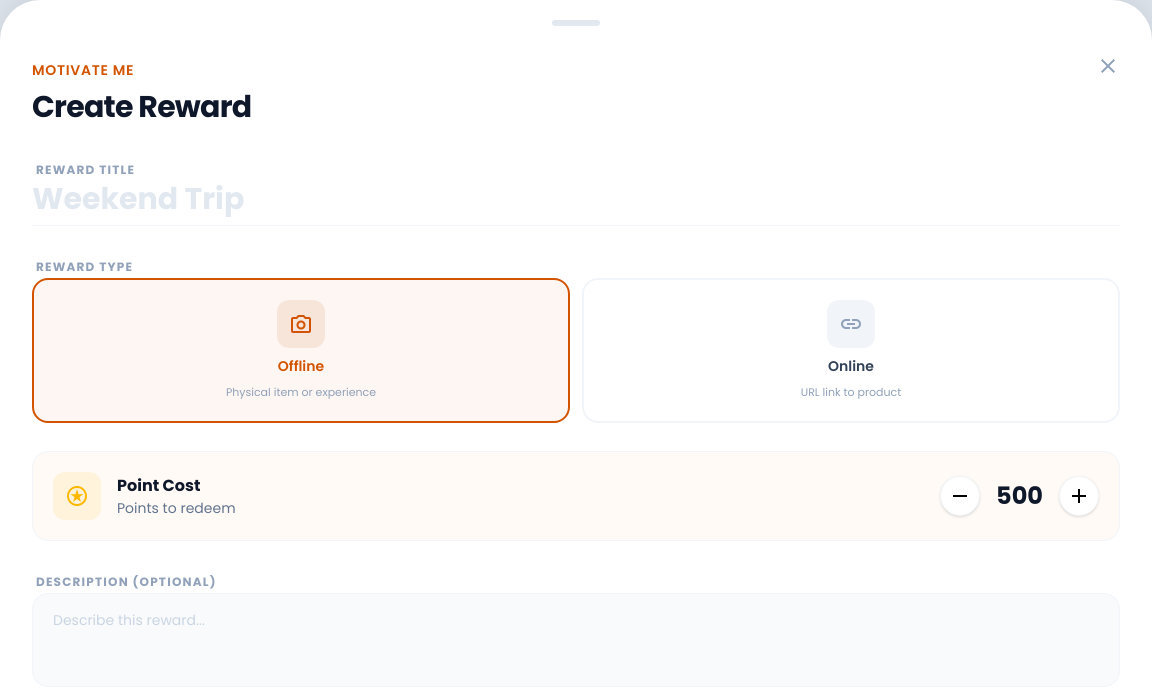
Test: CreateReward › shows URL field for online type
The width and height of the screenshot is (1152, 699).
Click the text "Online".
click(851, 366)  # box [828,356,874,376]
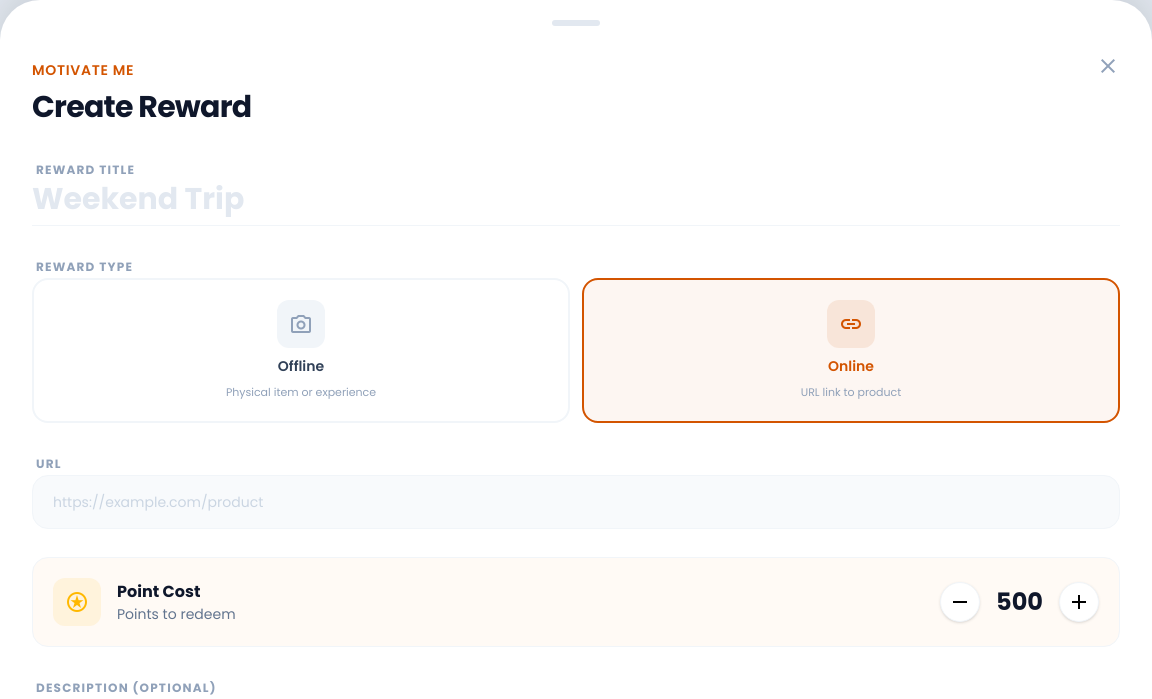
Result: the field with placeholder "https://example.com/product" is shown at [32,474,1120,528]
